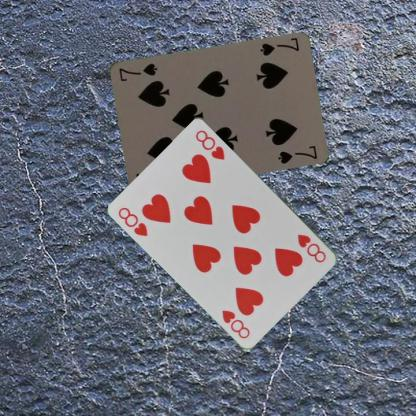7s: (257, 35, 301, 57)
8h: (294, 231, 328, 264), (116, 205, 149, 238)
